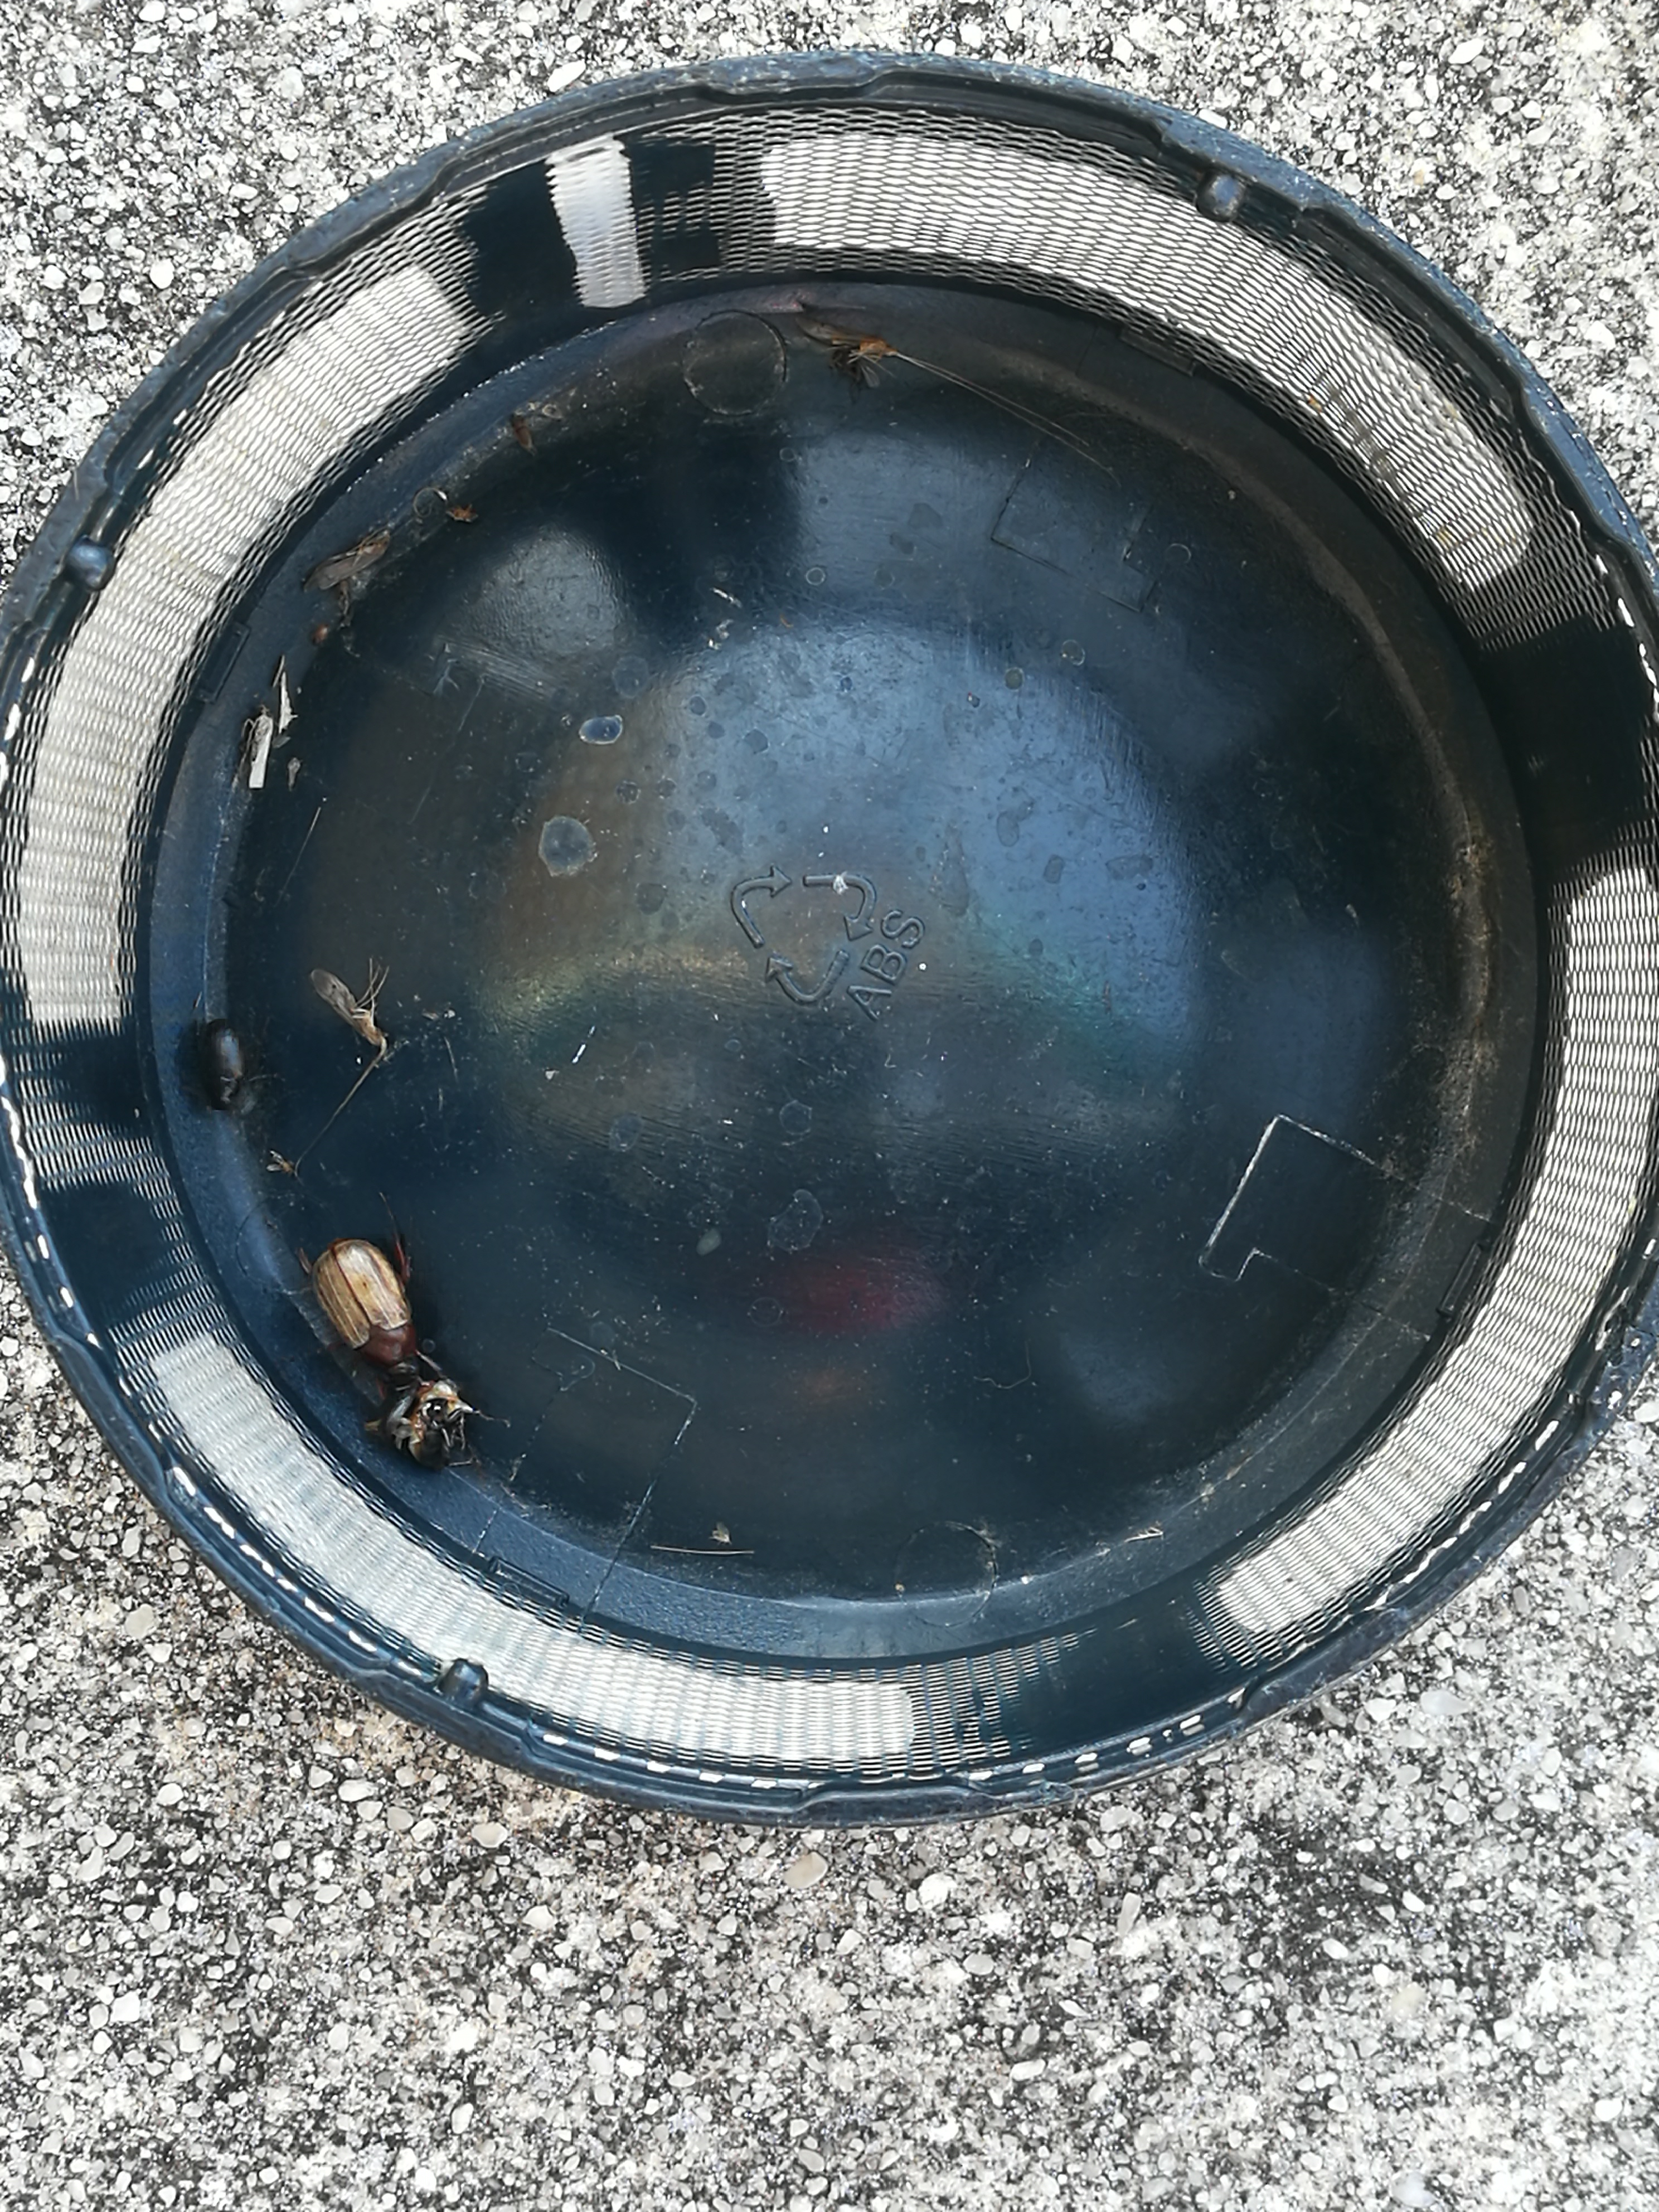beetle: (310, 1240, 420, 1383), (199, 1021, 242, 1109)
mosquito: (310, 968, 383, 1045), (305, 531, 392, 589), (795, 315, 894, 357), (246, 702, 270, 786), (836, 348, 880, 385)
